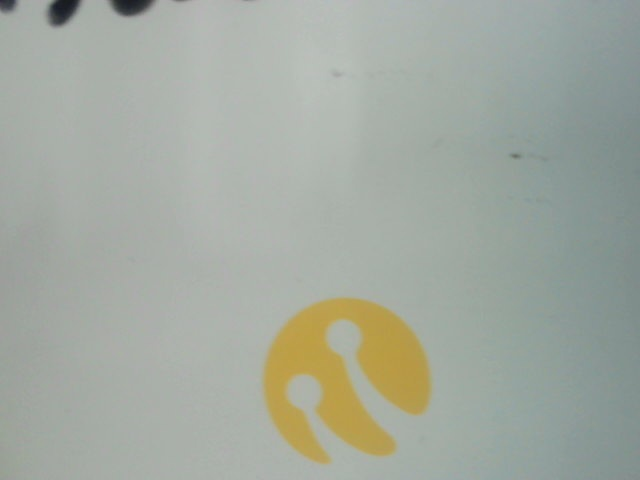AV_H3600Yellow: (244, 285, 437, 463)
